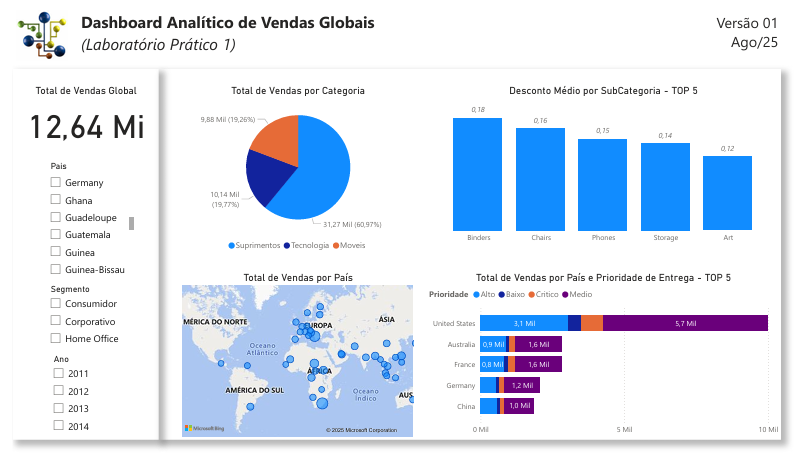

Layout of this report page (visuals, bound fields, positions):
{"tool":"powerbi","page":{"name":"lab_01","canvas":[1280,720],"ordinal":0},"visuals":[{"type":"card","title":"Total de Vendas Global","fields":{"Values":["Sum(dataset.Total_Vendas)"]},"box":[0,126.4,243.9,108.7],"z":0},{"type":"pieChart","title":"Total de Vendas por Categoria","fields":{"Category":["dataset.Categoria"],"Y":["CountNonNull(dataset.ID_Pedido)"]},"box":[277.7,126.4,393.8,288],"z":1000},{"type":"barChart","title":"Total de Vendas por País e Prioridade","fields":{"Category":["dataset.Pais"],"Y":["CountNonNull(dataset.ID_Pedido)"],"Series":["dataset.Prioridade"]},"box":[687.7,437.9,592.2,282.1],"z":2000},{"type":"columnChart","title":"Total de Desconto por SubCategoria","fields":{"Category":["dataset.SubCategoria"],"Y":["Avg(dataset.Desconto)"]},"box":[687.7,126.4,592.2,274.8],"z":3000},{"type":"map","title":"Total de Vendas por País","fields":{"Category":["dataset.Pais"],"Size":["Avg(dataset.Total_Vendas)"]},"box":[277.7,437.9,393.8,282.1],"z":4000},{"type":"slicer","fields":{"Values":["dataset.Pais"]},"box":[50,250,156.7,205],"z":5000},{"type":"slicer","fields":{"Values":["dataset.Segmento"]},"box":[50,455,156.7,116.7],"z":6000},{"type":"slicer","fields":{"Values":["dataset.Data_Pedido.Variation.Hierarquia de datas.Ano"]},"box":[55,571.7,133.3,148.3],"z":7000},{"type":"image","box":[0,0,98.4,92.6],"z":8000},{"type":"textbox","box":[108.7,0,520.2,92.6],"z":9000},{"type":"textbox","box":[986,1.5,293.9,89.6],"z":10000}]}

Visuals, with their boxes in screenshot pixels (x1, y1, x2, y2), scaled from the page's 1280x720 canvas onto the 798x456 screenshot:
"Total de Vendas Global" card: x1=0, y1=80, x2=152, y2=149
"Total de Vendas por Categoria" pieChart: x1=173, y1=80, x2=419, y2=262
"Total de Vendas por País e Prioridade" barChart: x1=429, y1=277, x2=797, y2=455
"Total de Desconto por SubCategoria" columnChart: x1=429, y1=80, x2=797, y2=254
"Total de Vendas por País" map: x1=173, y1=277, x2=419, y2=455
slicer - dataset.Pais: x1=31, y1=158, x2=129, y2=288
slicer - dataset.Segmento: x1=31, y1=288, x2=129, y2=362
slicer - dataset.Data_Pedido.Variation.Hierarquia de datas.Ano: x1=34, y1=362, x2=117, y2=455
image: x1=0, y1=0, x2=61, y2=59
textbox: x1=68, y1=0, x2=392, y2=59
textbox: x1=615, y1=1, x2=797, y2=58
